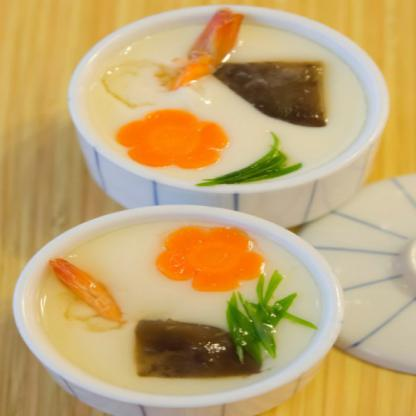Kaithoon: (17, 217, 352, 411), (83, 4, 382, 195)
